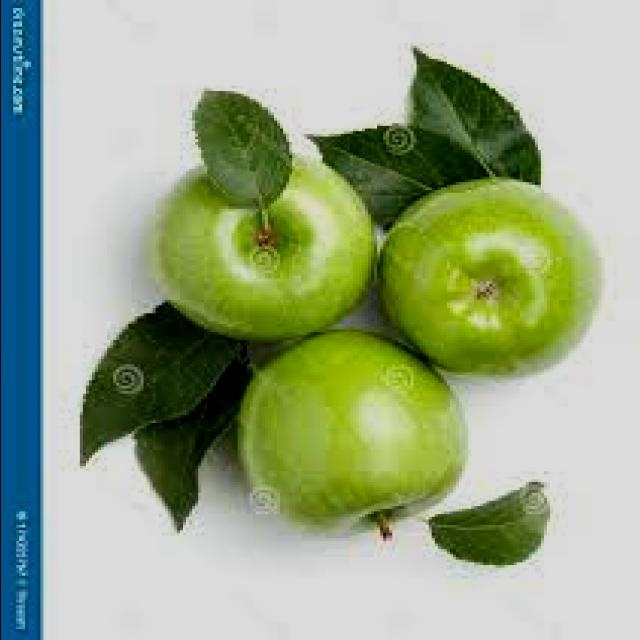agrume: (219, 309, 492, 563), (365, 139, 623, 387), (145, 115, 409, 357)
